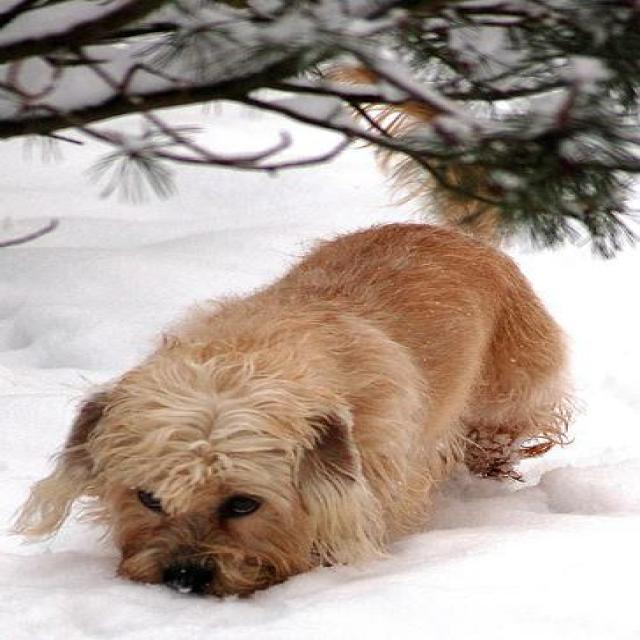dandie_dinmont: (6, 224, 572, 598)
